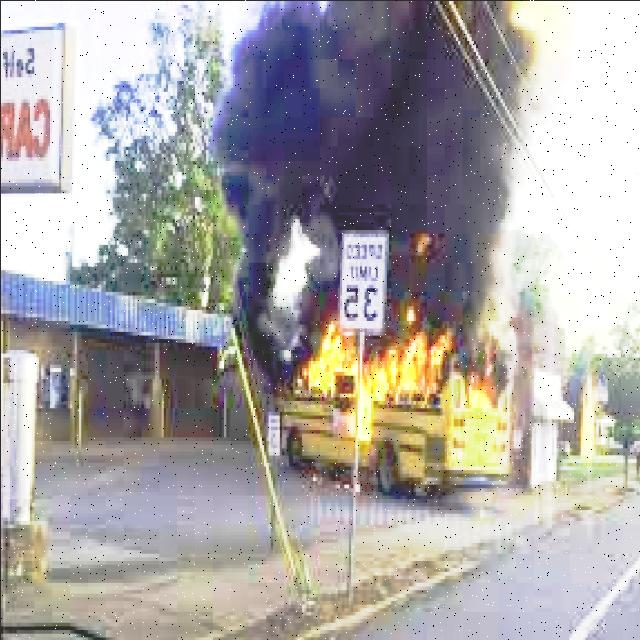api: (274, 266, 454, 412)
